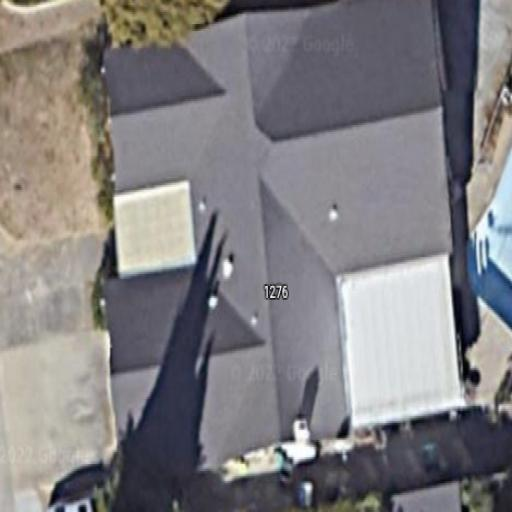Slope-Flat-Roof: (105, 3, 461, 486)
